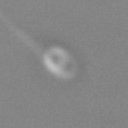normal: (1, 14, 46, 53)
